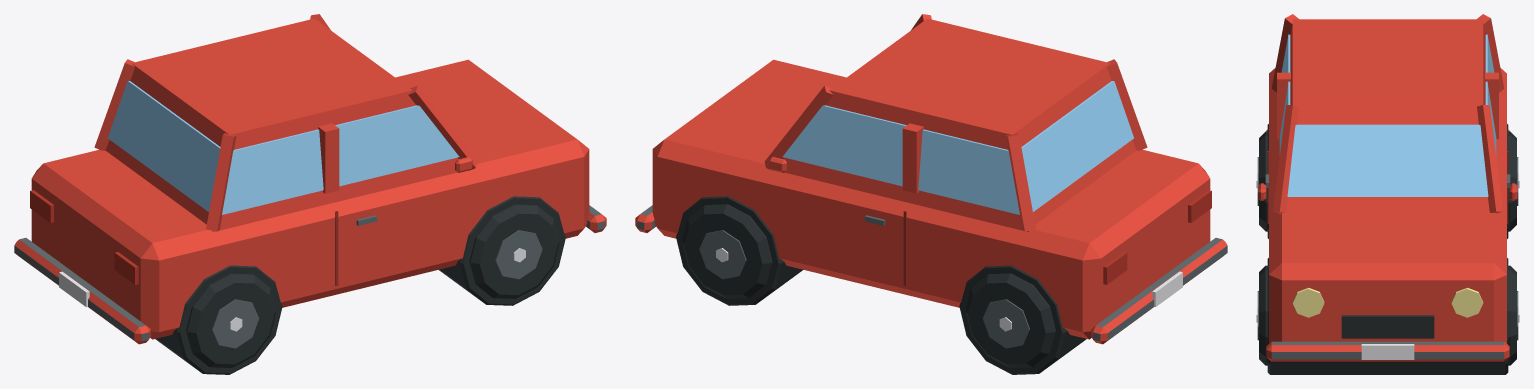
The model's file is car.glb.
The picture shows the model from 3 angles, left to right: view 1: azimuth 30°, elevation 25°; view 2: azimuth 150°, elevation 25°; view 3: azimuth 270°, elevation 25°; orthographic projection. The views are drawn at different scales.
Visible parts, largest first — view 1: car-m; view 2: car-m; view 3: car-m.
Part boxes in pixels (box(x1,y1,x2,y2)): car-m: box(14, 14, 606, 374); car-m: box(635, 14, 1227, 374); car-m: box(1256, 14, 1519, 374).
Bounding box in the file's own units: 4.03 × 1.88 × 1.99.
